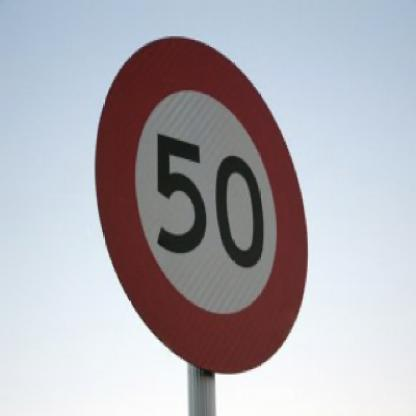speedlimit: (91, 33, 308, 375)
